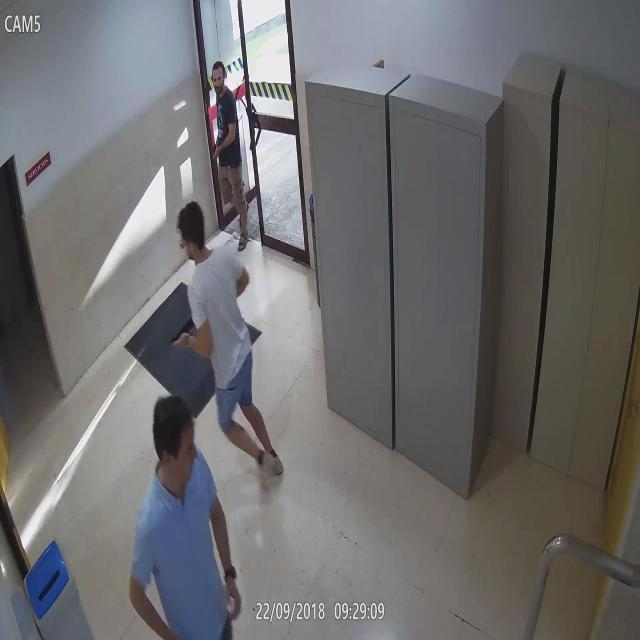weapon: (172, 316, 201, 348), (210, 146, 218, 161)
